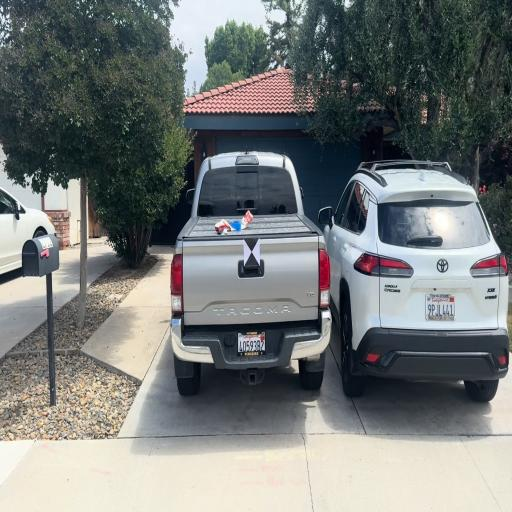target: (244, 238, 260, 266)
